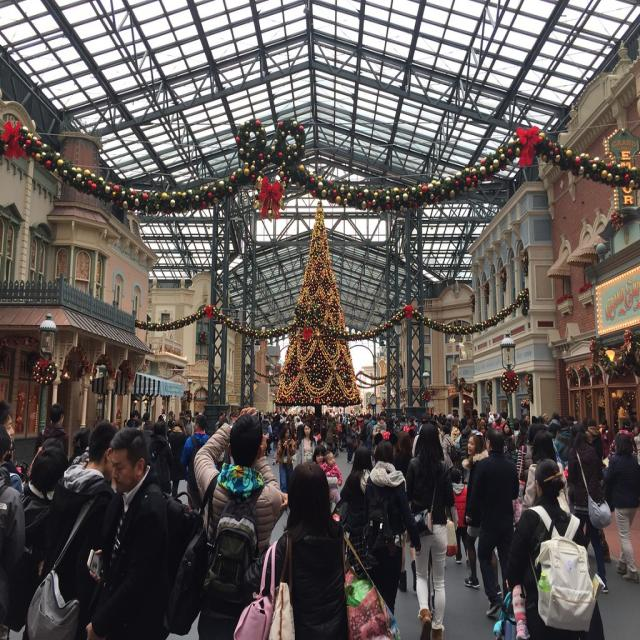body: (232, 461, 402, 640), (82, 423, 210, 639), (190, 404, 288, 639), (22, 418, 124, 639), (508, 456, 609, 639), (404, 418, 457, 640), (360, 438, 424, 618), (466, 428, 520, 618), (568, 424, 613, 594), (462, 429, 504, 600), (602, 432, 640, 580), (0, 426, 26, 640), (20, 446, 64, 561), (339, 444, 375, 577), (521, 428, 571, 514), (393, 430, 418, 593), (181, 414, 219, 514), (467, 408, 594, 437), (516, 422, 548, 503), (448, 467, 472, 565), (148, 418, 176, 498), (312, 444, 339, 514), (36, 402, 70, 457), (0, 400, 24, 468), (168, 418, 188, 499), (275, 424, 297, 494), (39, 425, 90, 452), (319, 449, 343, 505), (126, 408, 180, 430), (510, 584, 530, 639), (610, 418, 638, 457), (296, 422, 319, 466), (440, 426, 460, 472), (584, 417, 604, 459), (599, 412, 638, 433), (270, 413, 284, 466), (599, 417, 615, 461), (405, 411, 449, 427), (594, 525, 612, 564), (360, 412, 374, 458), (344, 418, 358, 464), (372, 415, 384, 467), (324, 418, 338, 458), (261, 414, 273, 458), (213, 409, 240, 427), (329, 416, 342, 451), (450, 416, 462, 453), (321, 411, 365, 421), (336, 415, 346, 453), (312, 416, 324, 446), (384, 412, 404, 428), (351, 417, 362, 445), (184, 413, 194, 442), (295, 416, 304, 448), (553, 435, 569, 453), (278, 411, 294, 426), (453, 409, 467, 426), (260, 410, 278, 420), (634, 435, 640, 463), (304, 410, 315, 424)
